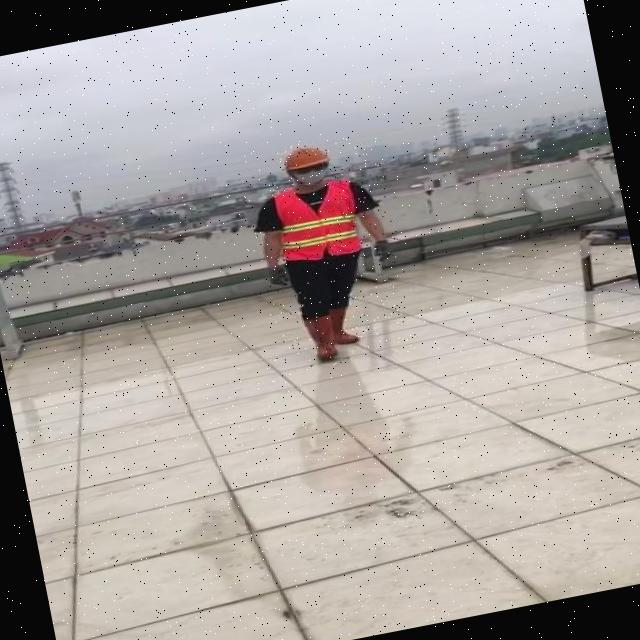boots: (298, 311, 344, 365), (330, 308, 362, 344)
helmet: (278, 142, 336, 175)
vest: (272, 178, 362, 266)
